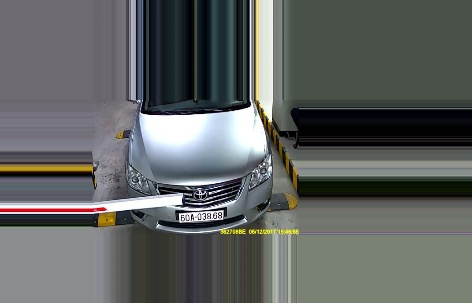plate: (175, 211, 225, 223)
